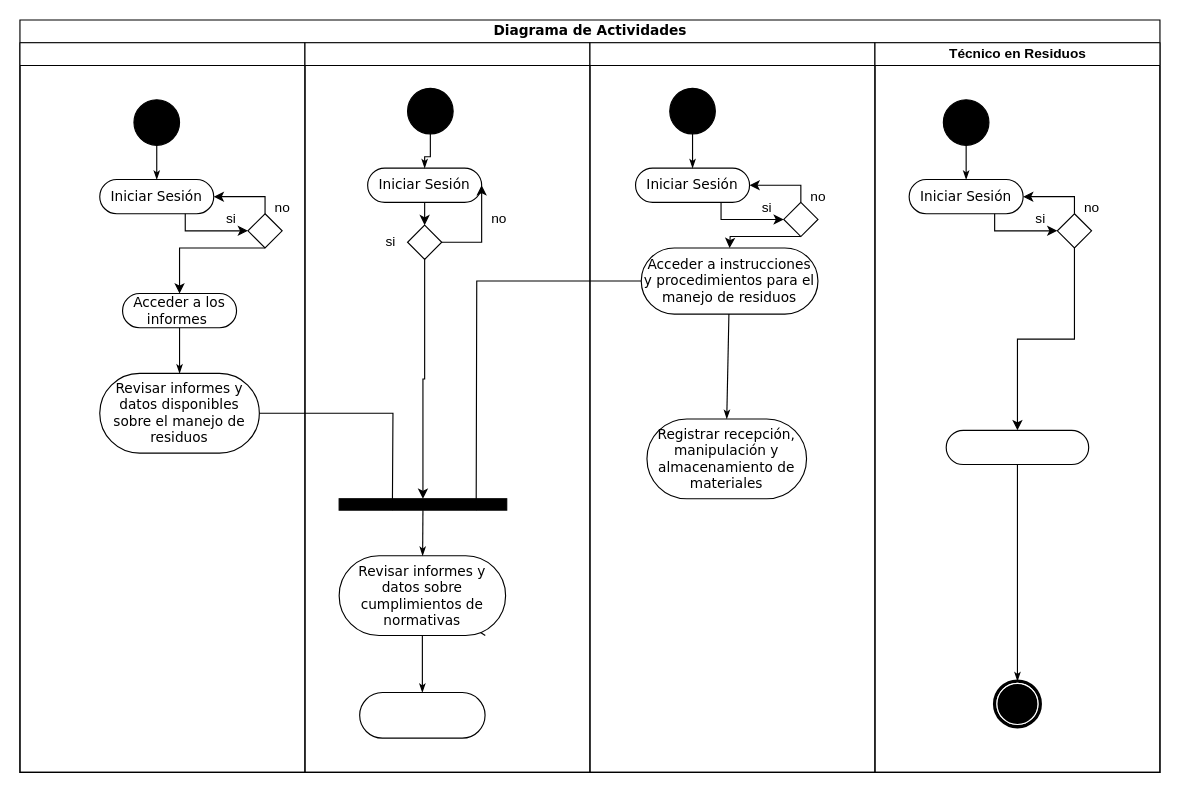
Image size: 1180x792. Some labels were removed from this diagram. Here are the shapes that lost their labels. From the top down, the box of each, then its label:
(19, 42, 305, 772): Gerente
(304, 42, 590, 772): Supervisor de Seguridad
(589, 42, 875, 772): Trabajor de Almacén
(945, 429, 1089, 465): Proporcionar asistencia técnica
(359, 691, 485, 738): Monitorear cumplimiento de normas
